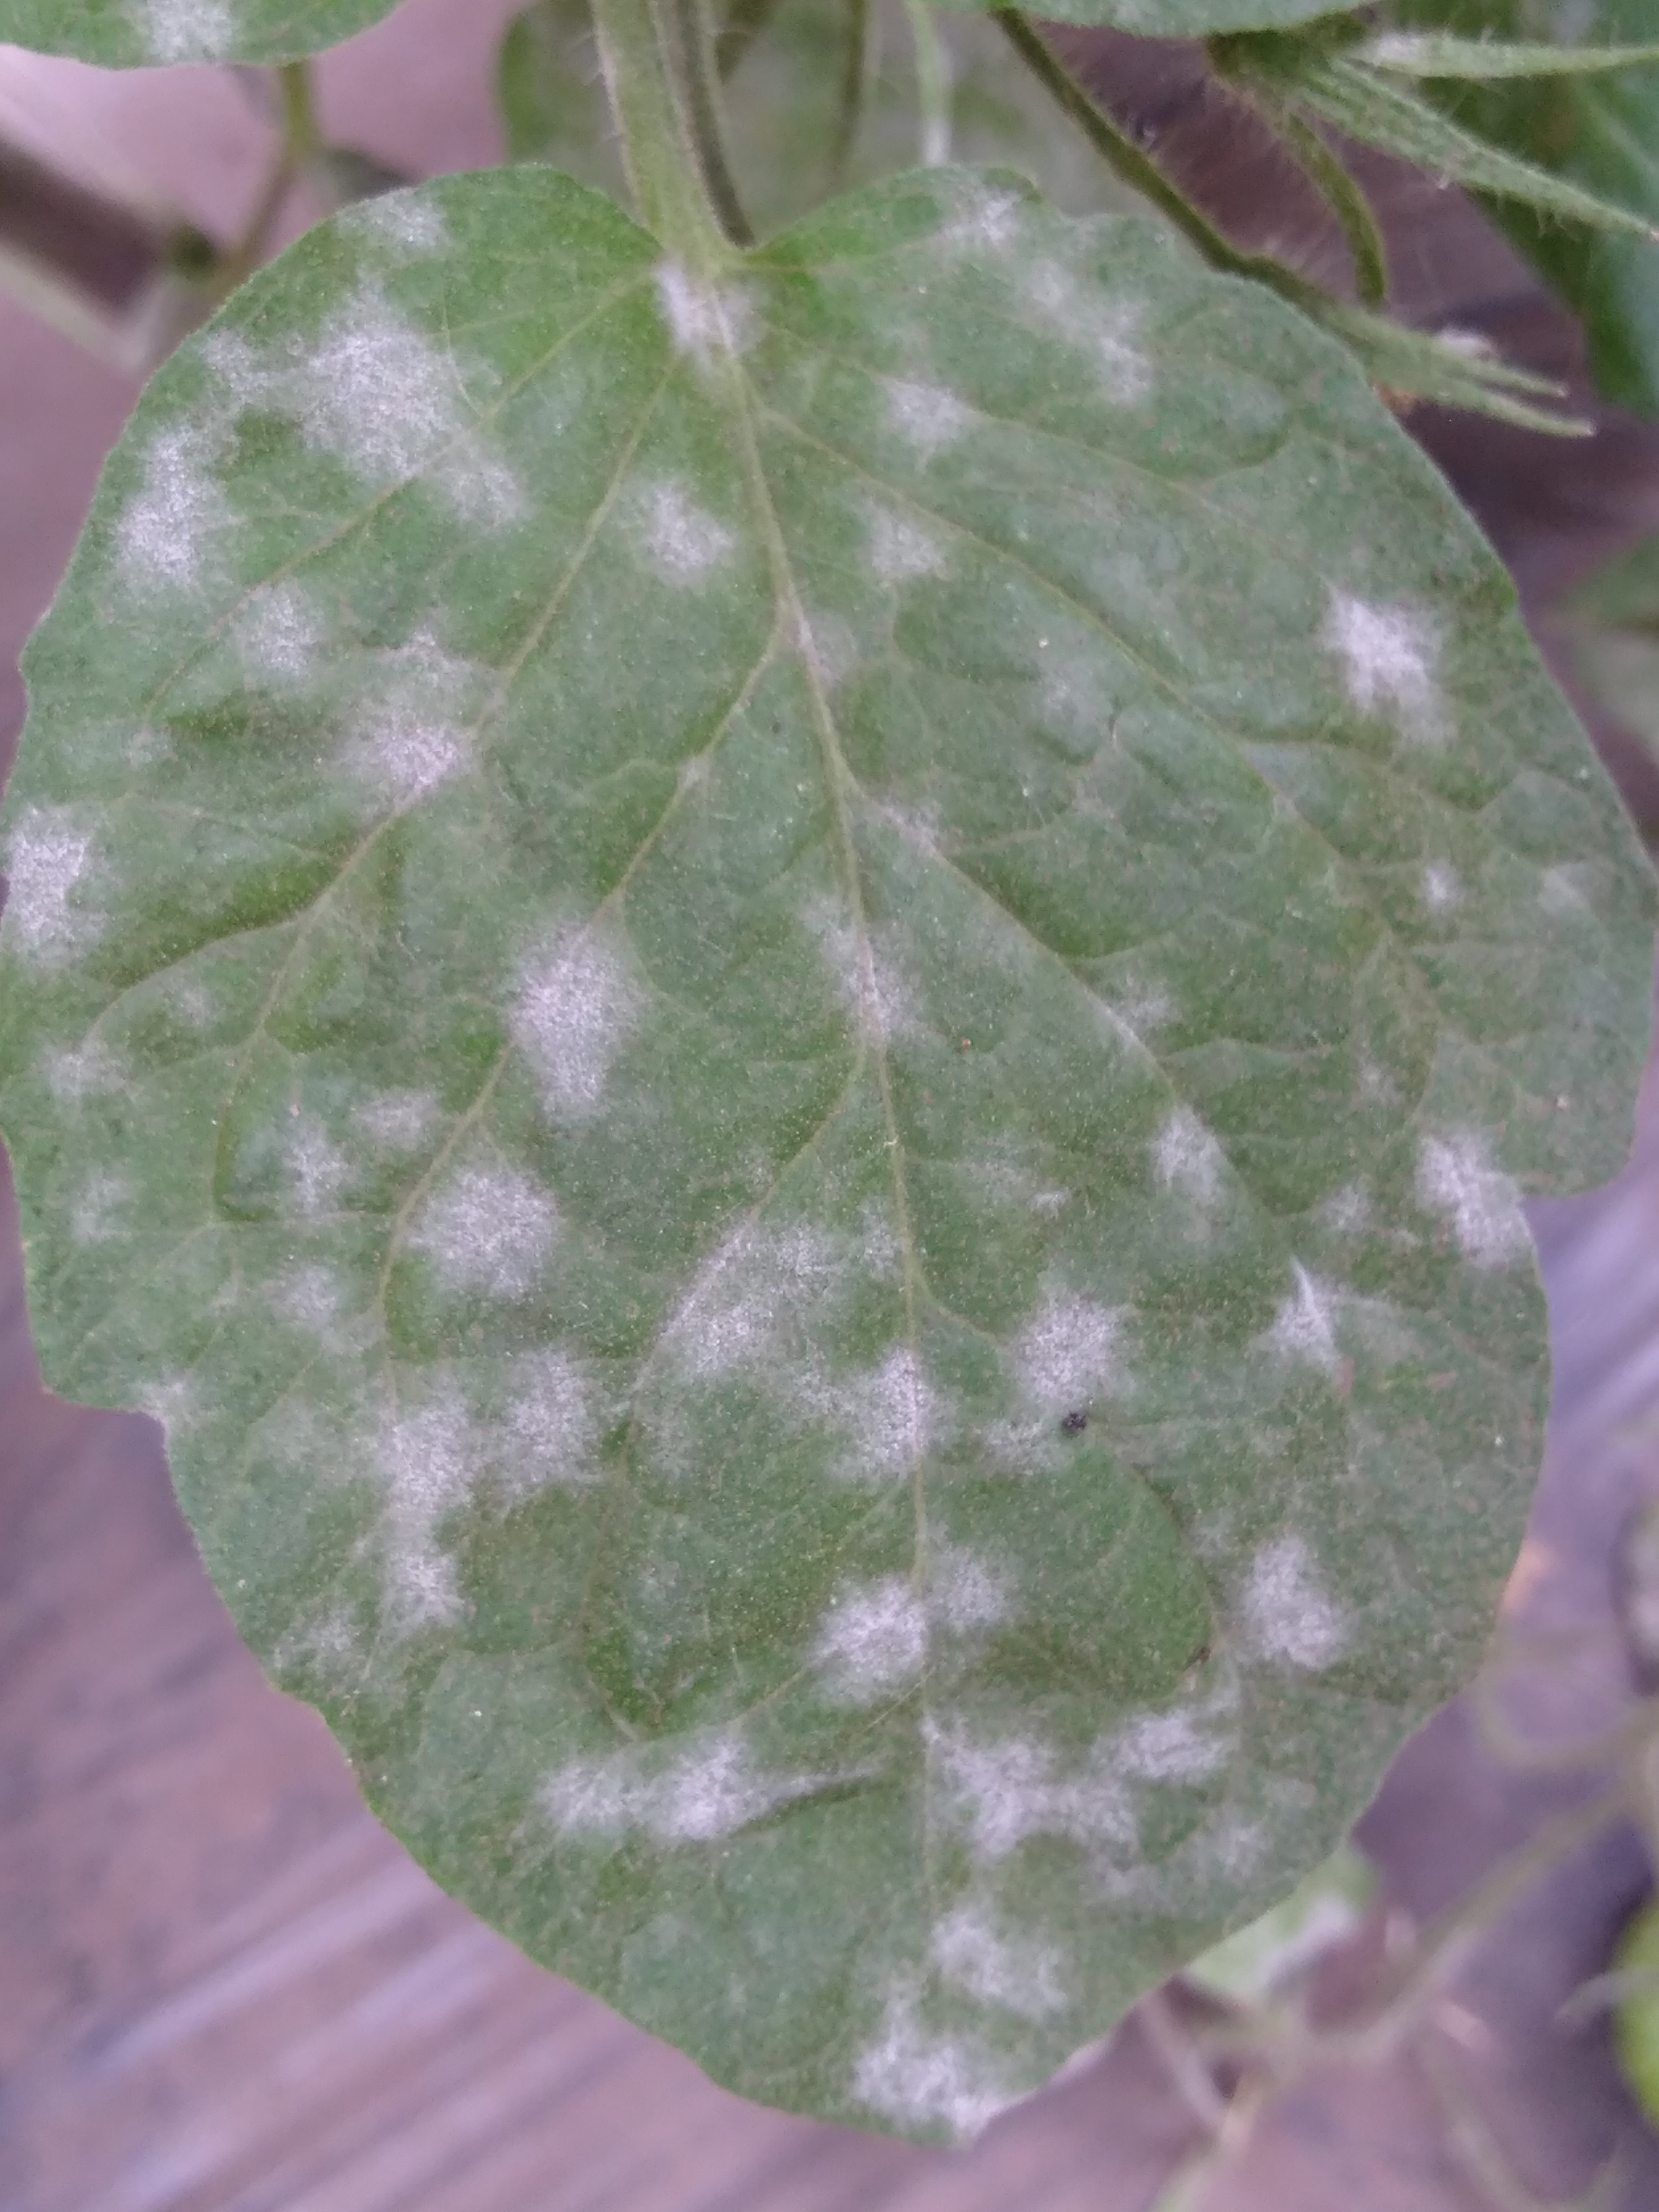blanca: (288, 317, 525, 531), (357, 1416, 580, 1642), (1298, 578, 1511, 766), (491, 914, 673, 1134), (915, 1764, 1211, 1898), (533, 1726, 779, 1853), (829, 1550, 1016, 1712), (329, 632, 471, 826), (125, 437, 239, 587)
